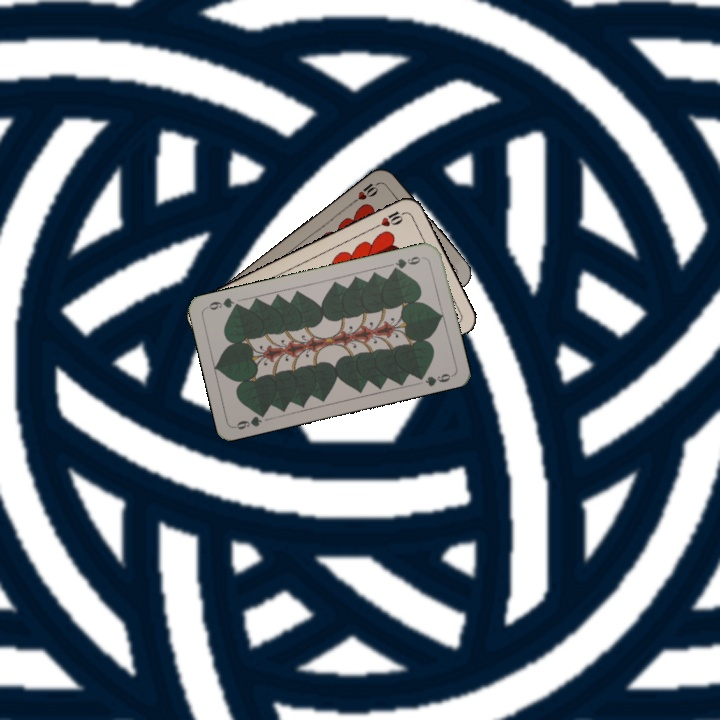G9: (231, 407, 269, 432), (388, 252, 427, 273)
H10: (348, 177, 383, 206), (369, 206, 407, 232)
